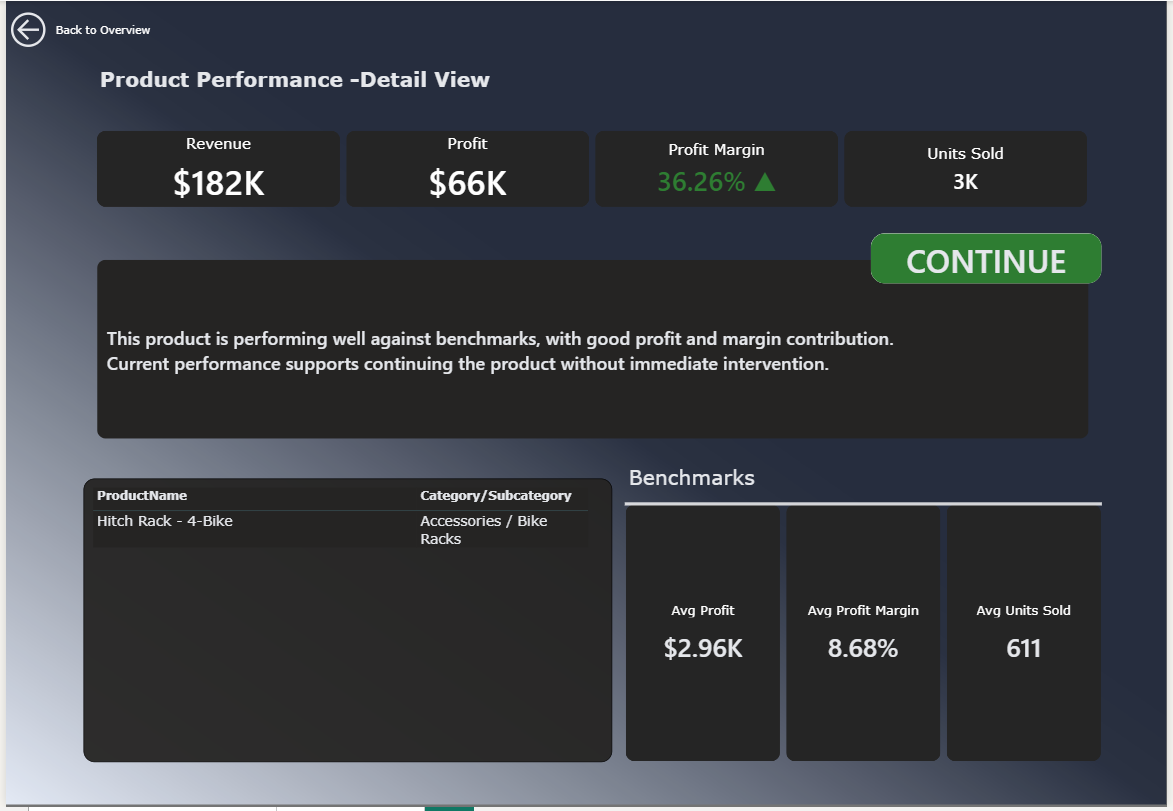

What the dashboard file says about the page in this screenshot:
{"tool":"powerbi","page":{"name":"Product Detail","canvas":[1440,1000],"ordinal":1},"visuals":[{"type":"tableEx","title":"Product Performance Summary","fields":{"Values":["vw_ProductRecommendation.ProductName","vw_ProductRecommendation.Category/Subcategory"]},"box":[96,592,656,352],"z":0},{"type":"actionButton","box":[0,0,190.7,63.1],"z":1000},{"type":"cardVisual","fields":{"Data":["Measures (2).Total Revenue","Measures (2).Total Profit","Measures (2).Profit Margin KPI","Measures (2).Units Sold"]},"box":[96,144,1264,128],"z":2000},{"type":"textbox","title":"Product Performance -Detail View","box":[112,80,512,64],"z":3000},{"type":"cardVisual","fields":{"Data":["Measures (2).Product Recommendation Insight"]},"box":[96,304,1264,256],"z":4000},{"type":"cardVisual","title":"Benchmark","fields":{"Data":["Measures (2).Avg Profit","Measures (2).Avg Profit Margin","Measures (2).Avg Units Sold"]},"box":[752,608,624,352],"z":5000},{"type":"textbox","title":"Benchmarks","box":[768,576,592,64],"z":6000},{"type":"shape","box":[768,608,592,32],"z":7000},{"type":"cardVisual","fields":{"Data":["Measures (2).Reccomendation Label"]},"box":[1056,272,320,96],"z":9500}]}

Visuals, with their boxes in screenshot pixels (x1, y1, x2, y2), scaled from the page's 1440x1000 canvas onto the 1173x811 screenshot:
"Product Performance Summary" tableEx: left=78, top=480, right=613, bottom=766
actionButton: left=0, top=0, right=155, bottom=51
cardVisual - Measures (2).Total Revenue x Measures (2).Total Profit: left=78, top=117, right=1108, bottom=221
"Product Performance -Detail View" textbox: left=91, top=65, right=508, bottom=117
cardVisual - Measures (2).Product Recommendation Insight: left=78, top=247, right=1108, bottom=454
"Benchmark" cardVisual: left=613, top=493, right=1121, bottom=779
"Benchmarks" textbox: left=626, top=467, right=1108, bottom=519
shape: left=626, top=493, right=1108, bottom=519
cardVisual - Measures (2).Reccomendation Label: left=860, top=221, right=1121, bottom=298
